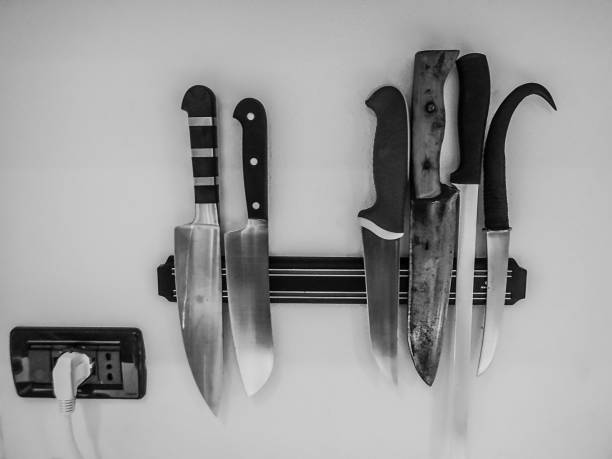k1: (165, 168, 226, 426), (225, 176, 280, 405), (409, 128, 454, 397), (351, 183, 404, 404), (476, 189, 523, 386), (450, 110, 479, 406)
